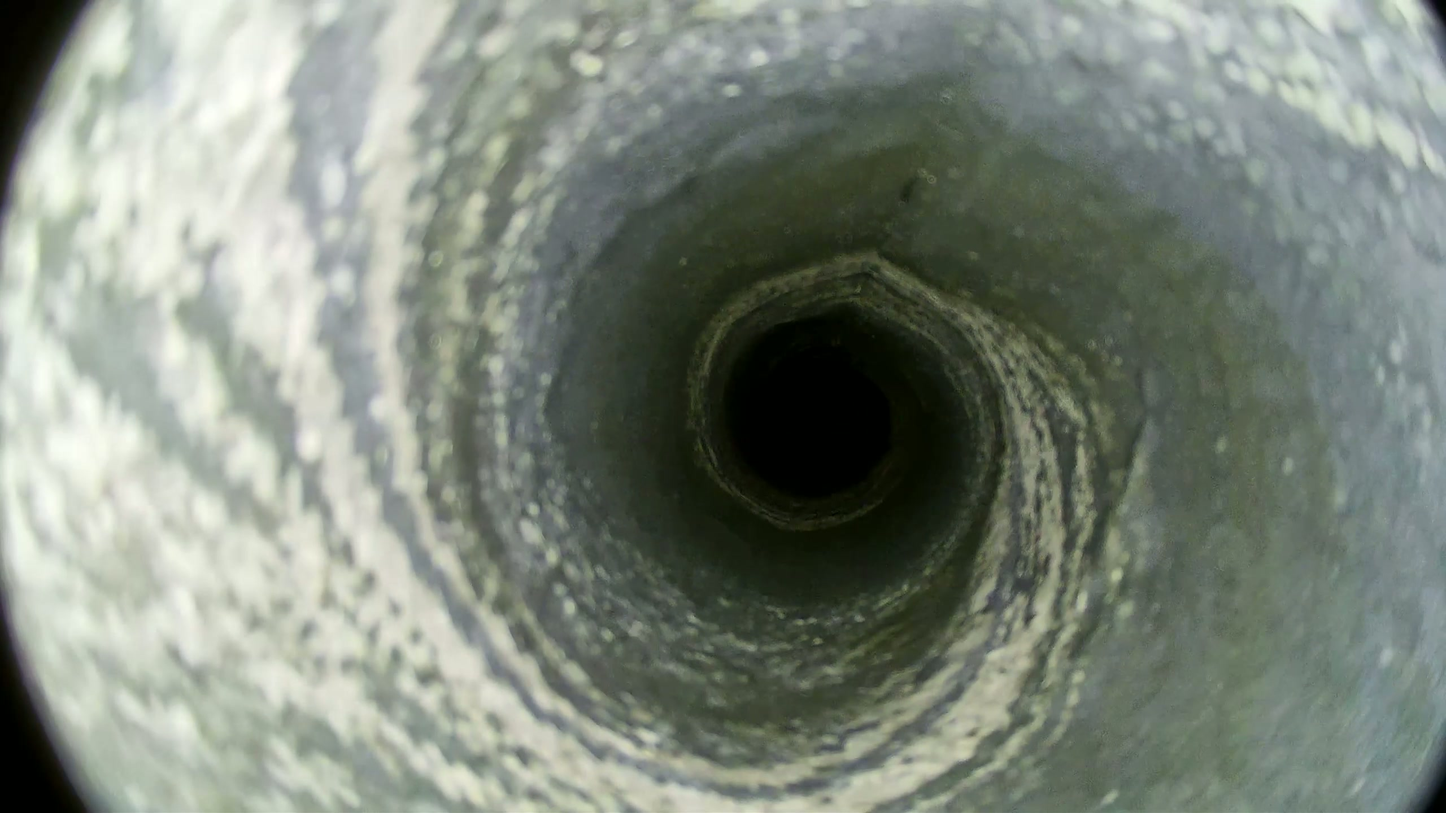hole: (742, 359, 889, 496)
